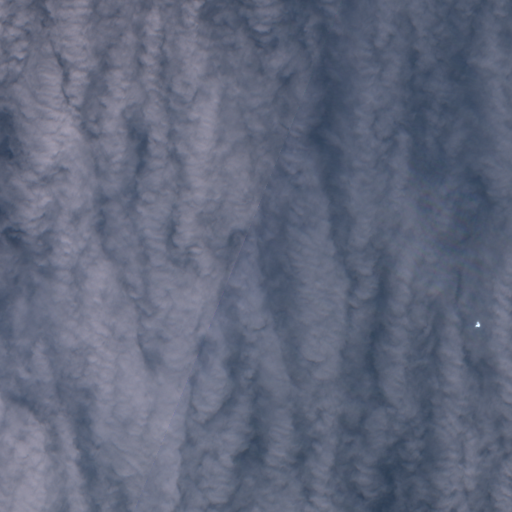Iceberg: (475, 321, 480, 326)
